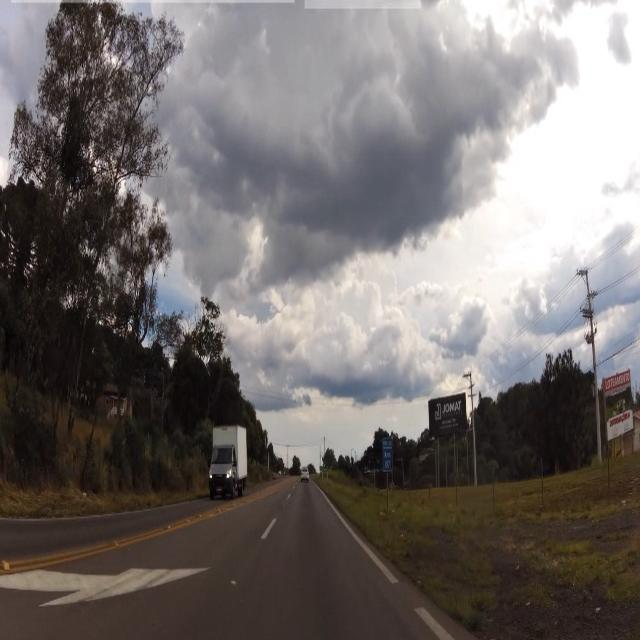RQ: (380, 432, 395, 475)
